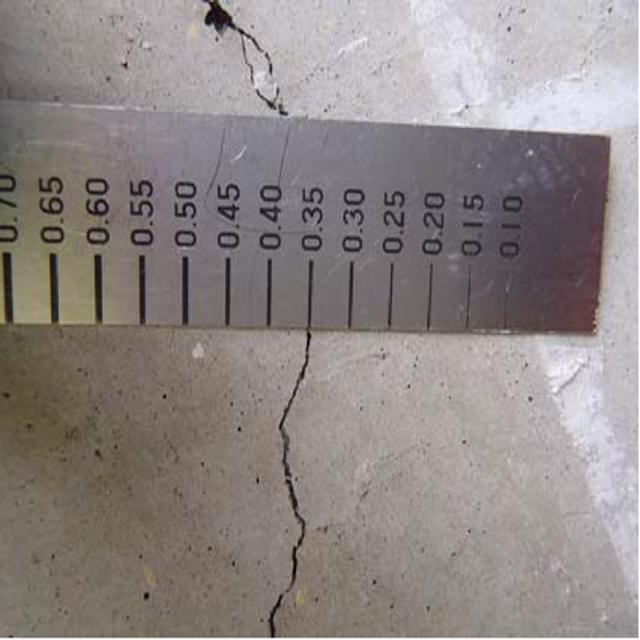crack: (257, 337, 344, 640), (200, 3, 300, 113)
